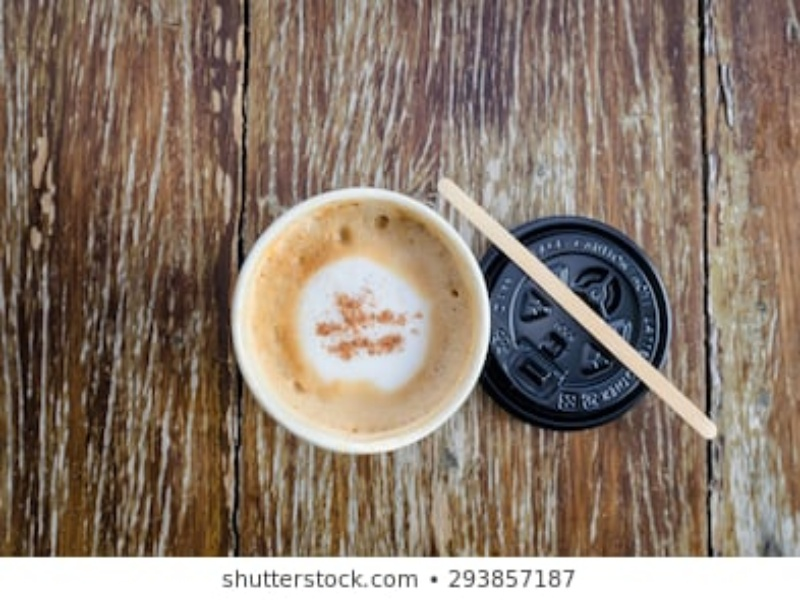coffee-lid: (482, 212, 673, 432)
